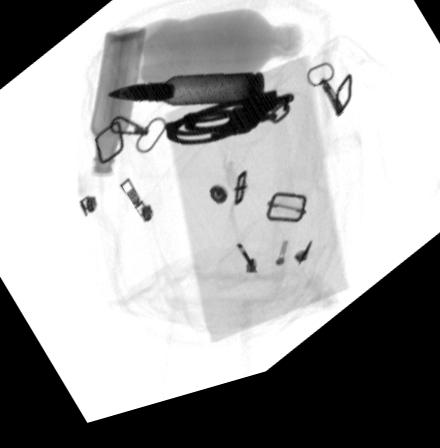Bullet: (107, 87, 263, 118)
HandCuffs: (165, 106, 293, 158)
